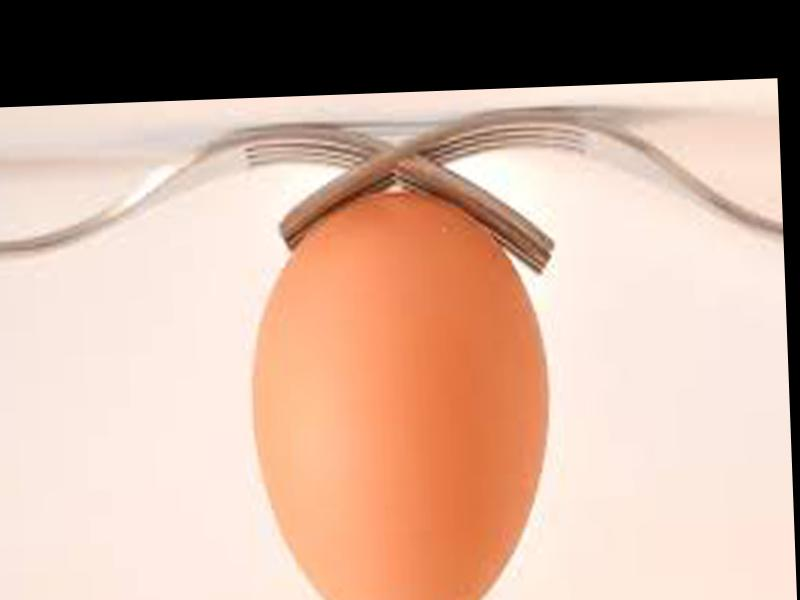Eggs: (244, 187, 556, 600)
